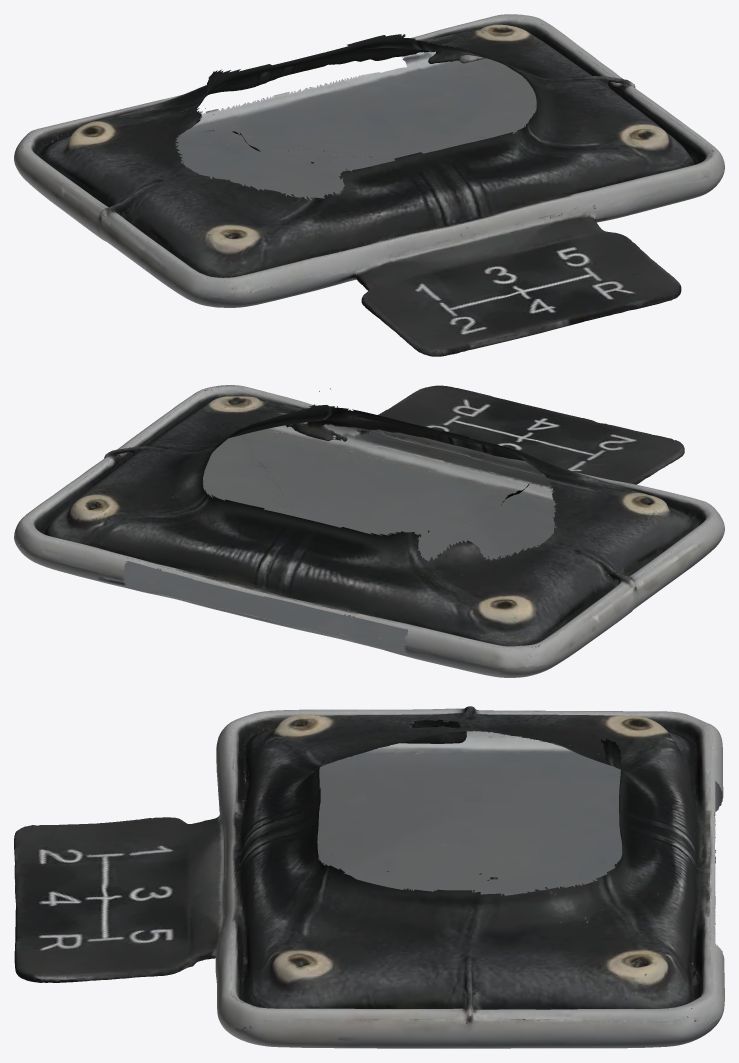
Rendered from palanca-display.glb.
The picture shows the model from 3 angles, top to bottom: view 1: azimuth 30°, elevation 25°; view 2: azimuth 150°, elevation 25°; view 3: azimuth 270°, elevation 25°; orthographic projection. The views are drawn at different scales.
Parts seen in each view (by area): view 1: palanca-display; view 2: palanca-display; view 3: palanca-display.
Part boxes in pixels (x1,y1,x2,y2): palanca-display: (14, 14, 724, 356); palanca-display: (14, 385, 724, 677); palanca-display: (14, 706, 724, 1048).
Size of the model in its own units: 1.62 by 0.2862 by 1.56.
1 material, 1 textured.
